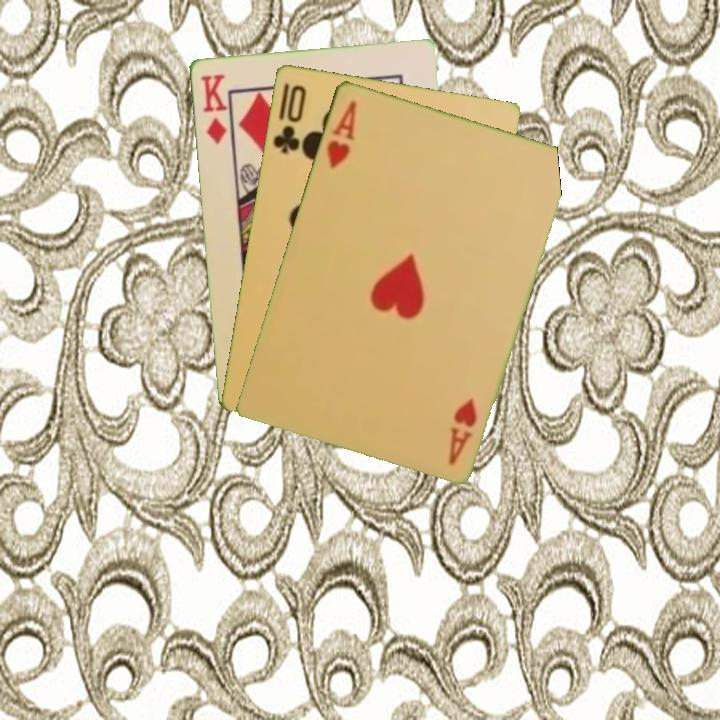10c: (269, 81, 309, 156)
Ah: (322, 96, 359, 171), (444, 393, 480, 468)
Kd: (196, 70, 229, 147)
